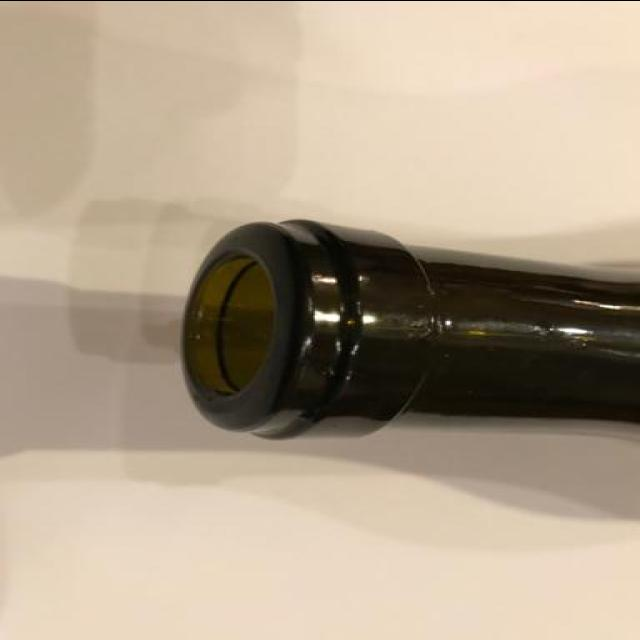glass: (133, 193, 640, 465)
